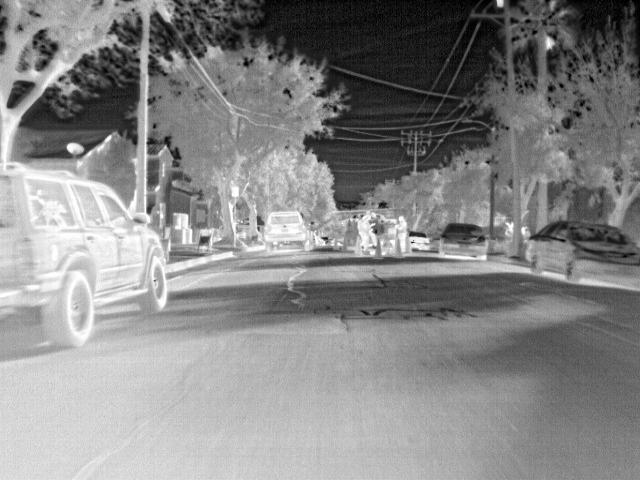car: (1, 171, 170, 347), (524, 222, 639, 282), (264, 212, 315, 247), (440, 223, 486, 258), (408, 230, 429, 248), (309, 228, 322, 246), (321, 234, 335, 248)
person: (358, 213, 373, 252), (396, 214, 412, 249), (371, 218, 387, 250)
